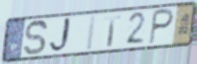2: (123, 11, 148, 48)
I: (84, 14, 98, 52)
J: (48, 16, 75, 55)
P: (147, 7, 175, 46)
S: (23, 19, 49, 56)
T: (103, 14, 122, 48)
